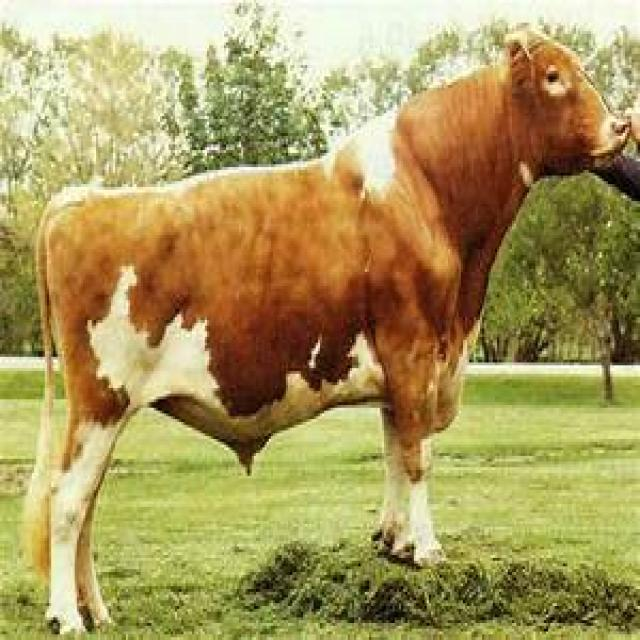cow: (26, 32, 629, 631)
